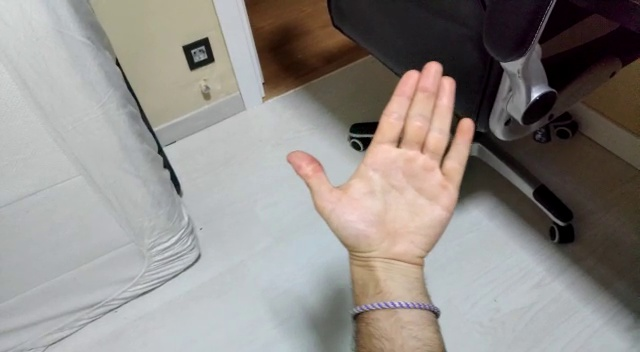Palm: (287, 57, 476, 269)
